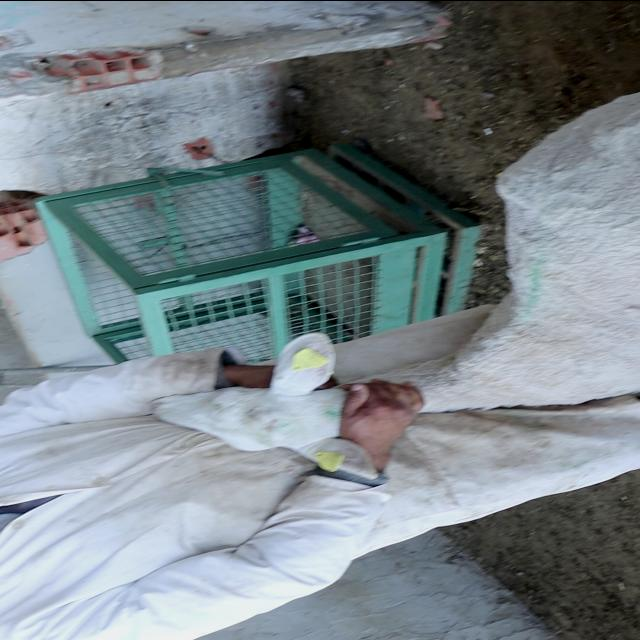Score_3: (408, 92, 639, 411)
